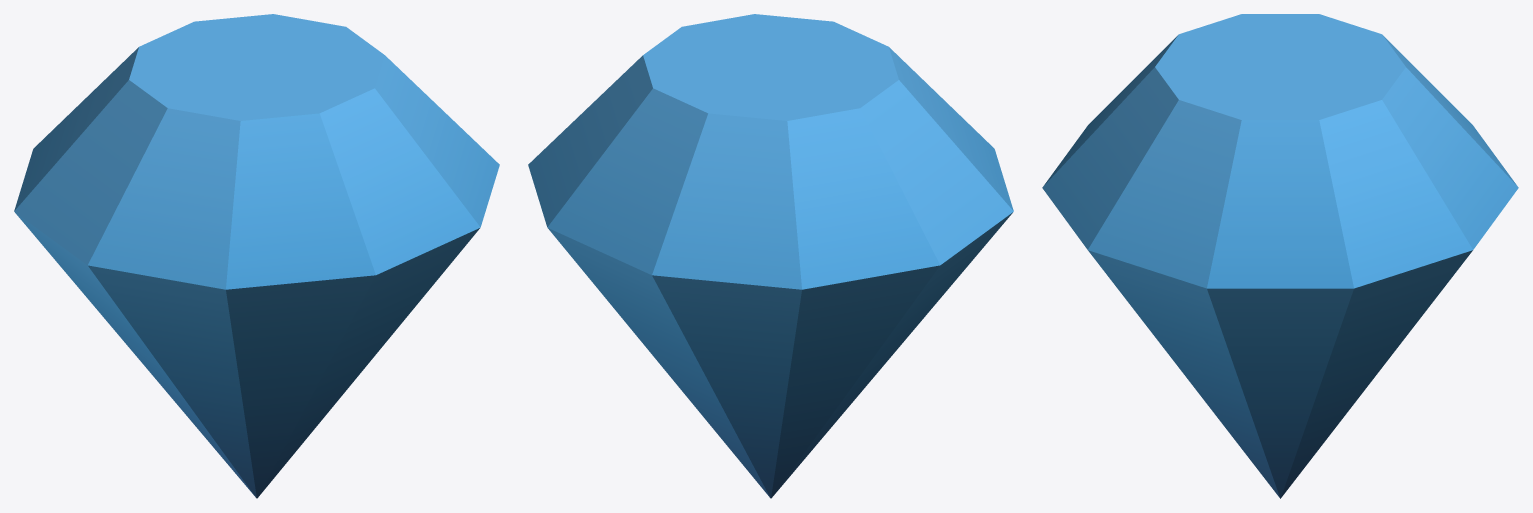
File: Gem5.fbx
The picture shows the model from 3 angles, left to right: view 1: azimuth 30°, elevation 25°; view 2: azimuth 150°, elevation 25°; view 3: azimuth 270°, elevation 25°; orthographic projection.
Visible parts, largest first — view 1: Gem5; view 2: Gem5; view 3: Gem5.
Part boxes in pixels (left/top/right/bottom): Gem5: left=14, top=14, right=499, bottom=498; Gem5: left=528, top=14, right=1013, bottom=498; Gem5: left=1042, top=14, right=1518, bottom=498.
Size of the model in its own units: 6 by 6 by 6.
